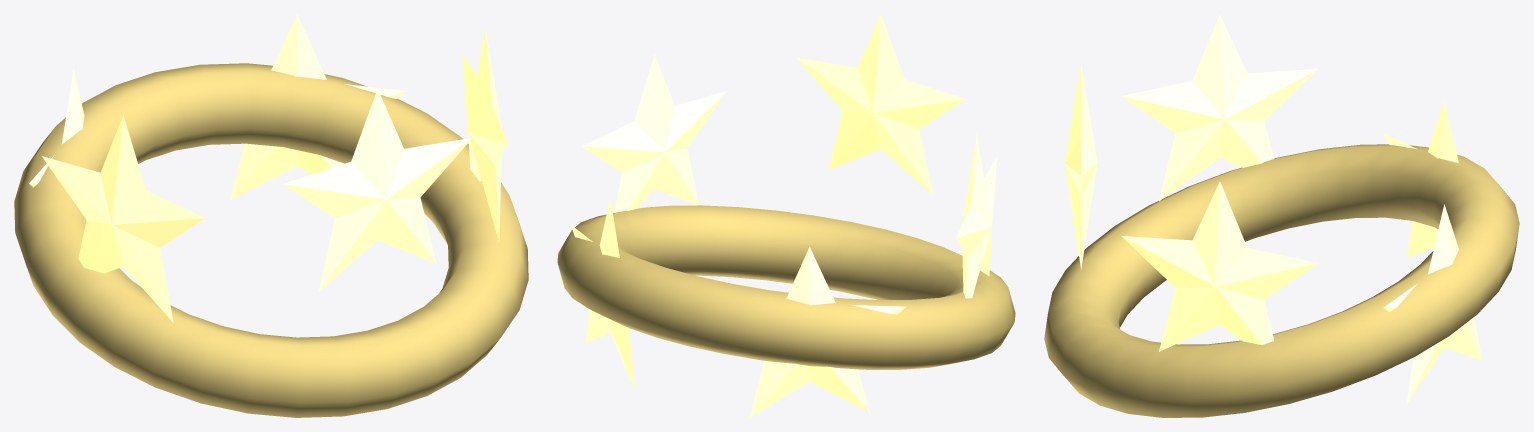
File: fawn_star_crown.glb
3 renders of one model, left to right at view 1: azimuth 30°, elevation 25°; view 2: azimuth 150°, elevation 25°; view 3: azimuth 270°, elevation 25°, orthographic. The views are drawn at different scales.
Parts seen in each view (by area): view 1: fawn_star_crown; view 2: fawn_star_crown; view 3: fawn_star_crown.
Part boxes in pixels (bbox=[...]): fawn_star_crown: bbox=[14, 14, 528, 417]; fawn_star_crown: bbox=[557, 14, 1015, 417]; fawn_star_crown: bbox=[1044, 14, 1519, 417].
Bounding box in the file's own units: 0.675 × 0.4532 × 0.652.
